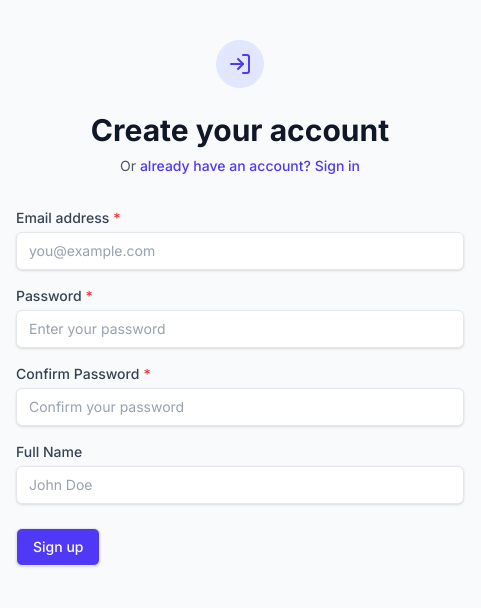
Test: RegisterPage › Validation Tests › displays error when passwords don't match
Type "password123" into the password field labelled "Password*" at (240, 329), box x1=16 y1=310 x2=464 y2=348
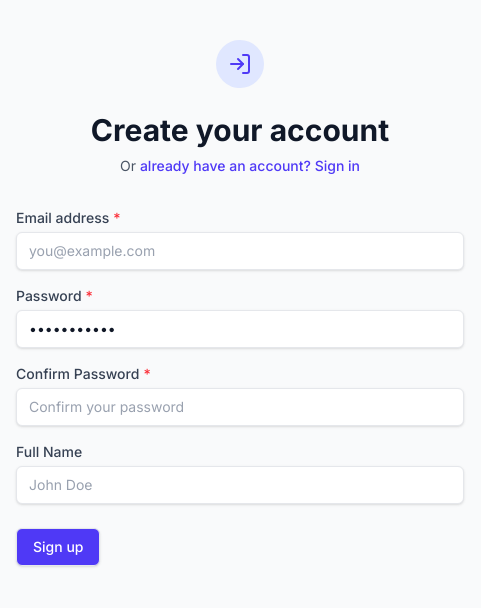
Type "password456" into the password field labelled "Confirm Password*" at (240, 407), box x1=16 y1=388 x2=464 y2=426
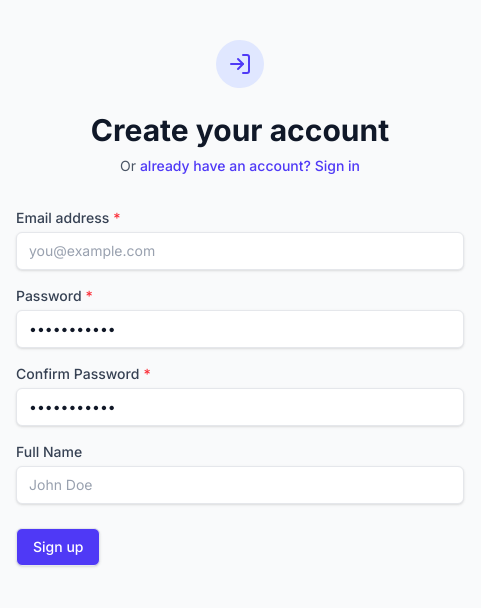
Click the button "Sign up" at (58, 547), box x1=16 y1=528 x2=100 y2=566
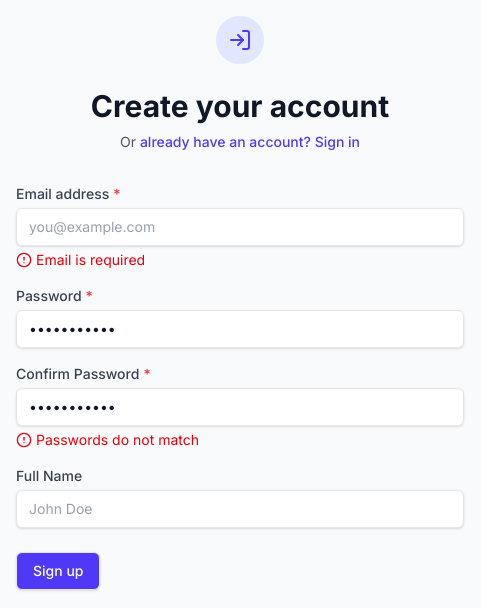
Expected: the text "Passwords do not match" is shown, x1=36 y1=430 x2=199 y2=450
